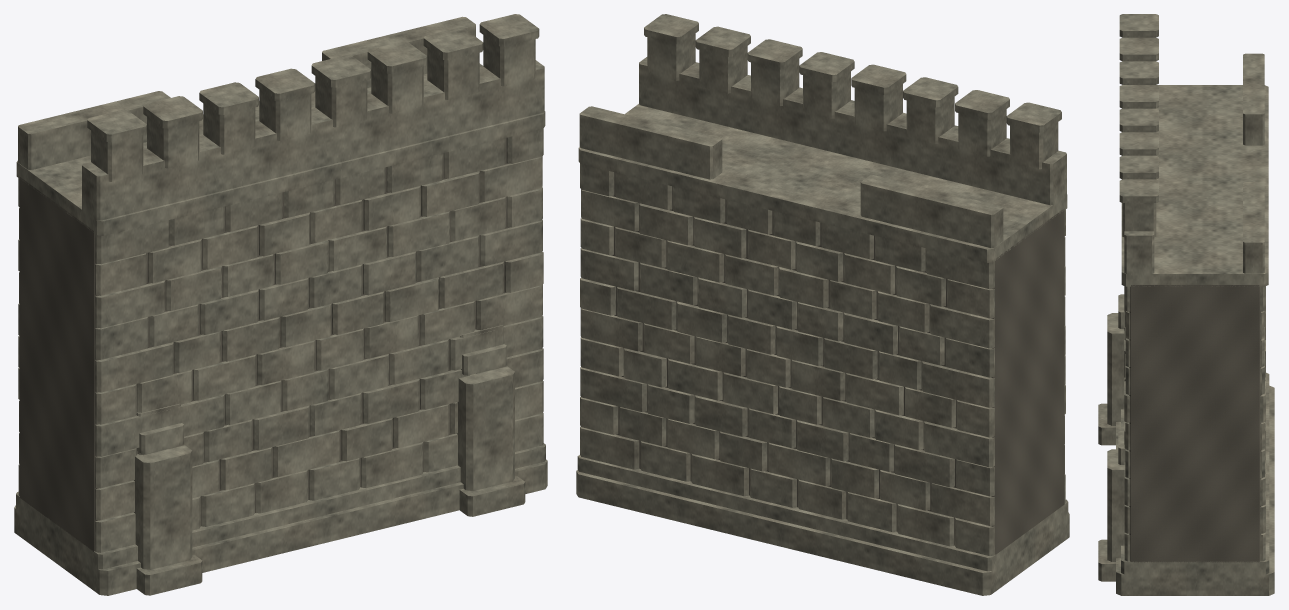
File: stone_wall_landing.glb
3 views of the same model, side by side, from view 1: azimuth 30°, elevation 25°; view 2: azimuth 150°, elevation 25°; view 3: azimuth 270°, elevation 25° (orthographic). The views are drawn at different scales.
Parts seen in each view (by area): view 1: Stone Wall Landing; view 2: Stone Wall Landing; view 3: Stone Wall Landing.
Part boxes in pixels (bbox=[...]): Stone Wall Landing: bbox=[14, 14, 547, 595]; Stone Wall Landing: bbox=[576, 14, 1069, 595]; Stone Wall Landing: bbox=[1098, 14, 1274, 595].
Size of the model in its own units: 6.4 by 6.25 by 2.52.
2 materials, 2 textured.
